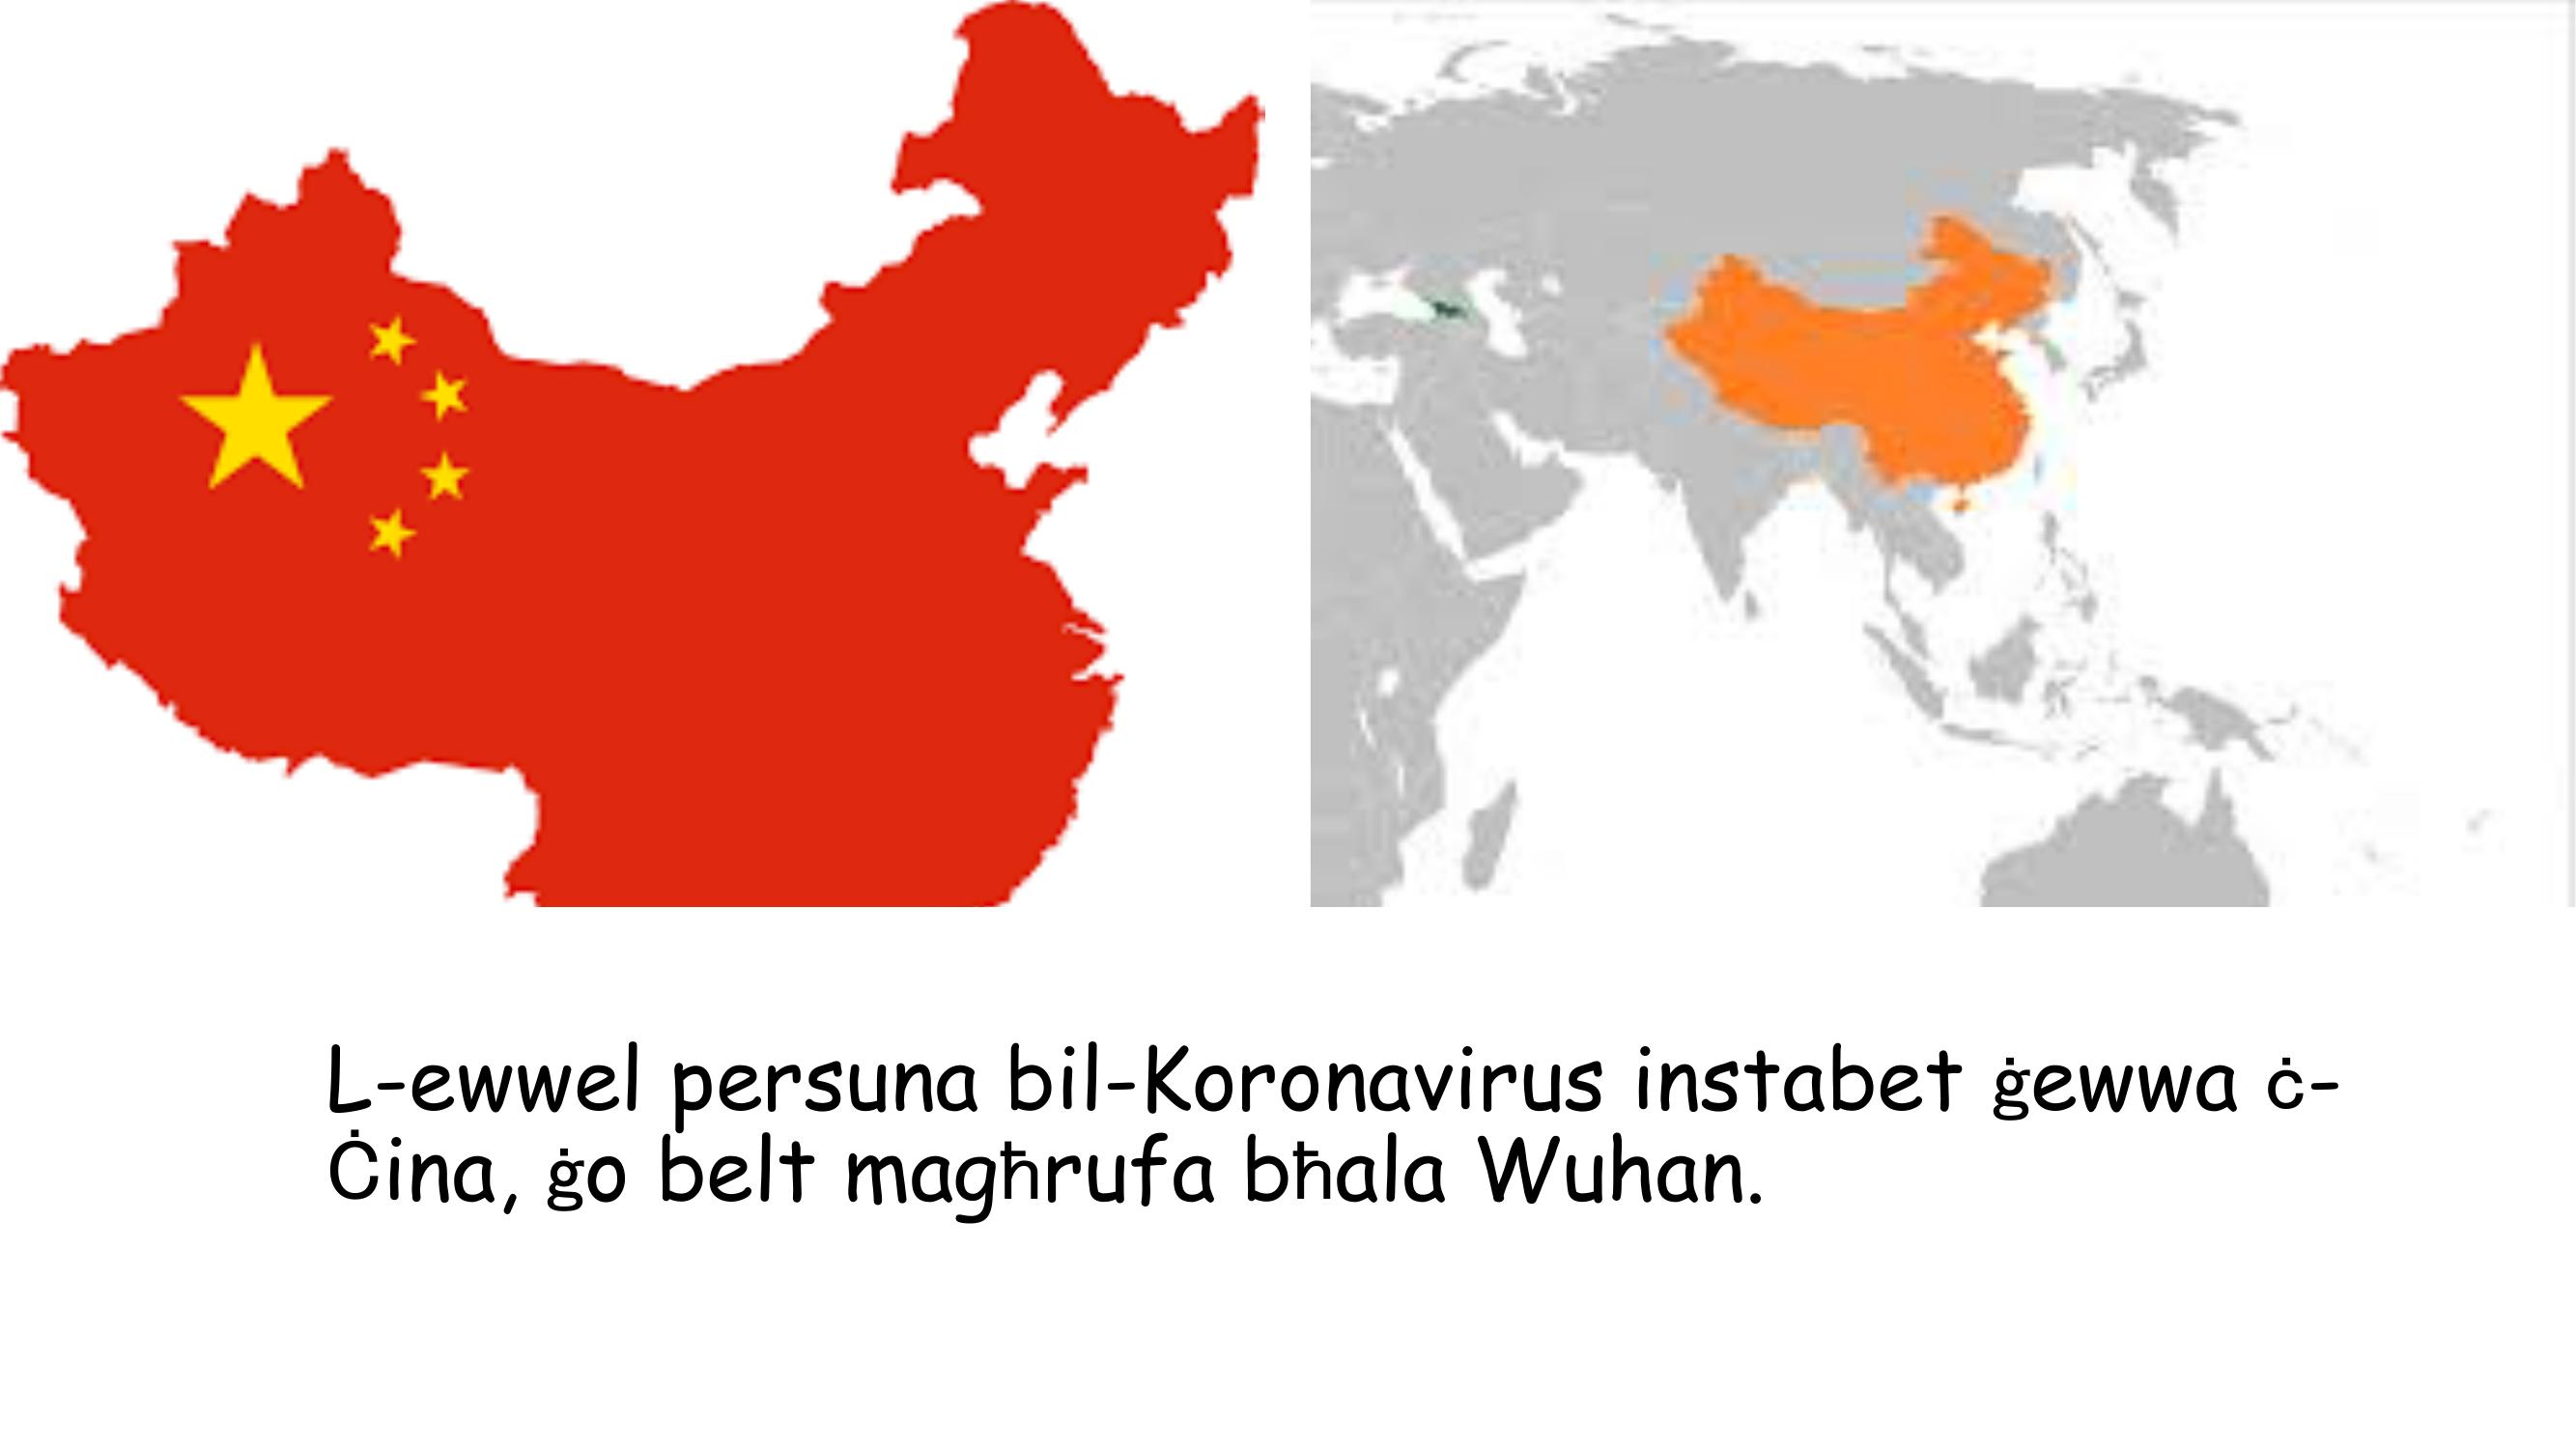text: (288, 993, 2357, 1261)
